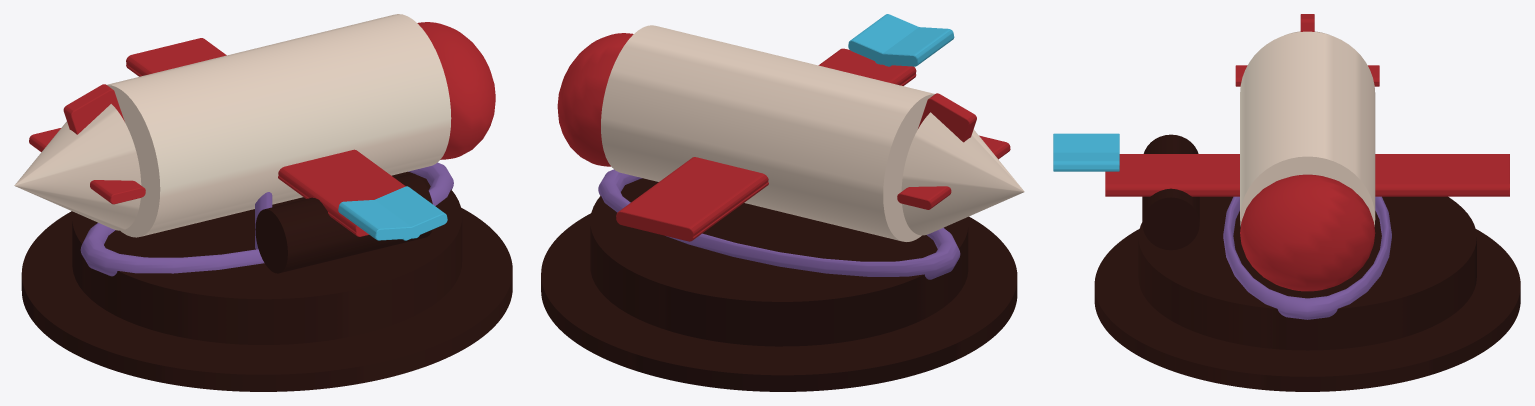
Rendered from 0583_伟大的发明图鉴_第一枚现代火箭.glb.
3 views of the same model, side by side, from view 1: azimuth 30°, elevation 25°; view 2: azimuth 150°, elevation 25°; view 3: azimuth 270°, elevation 25° (orthographic). The views are drawn at different scales.
Visible parts, largest first — view 1: card_0583; view 2: card_0583; view 3: card_0583.
Part boxes in pixels (<box>): card_0583: <box>14,14,512,391</box>; card_0583: <box>541,14,1024,391</box>; card_0583: <box>1053,14,1520,391</box>.
Size of the model in its own units: 2.03 by 1 by 1.99.
